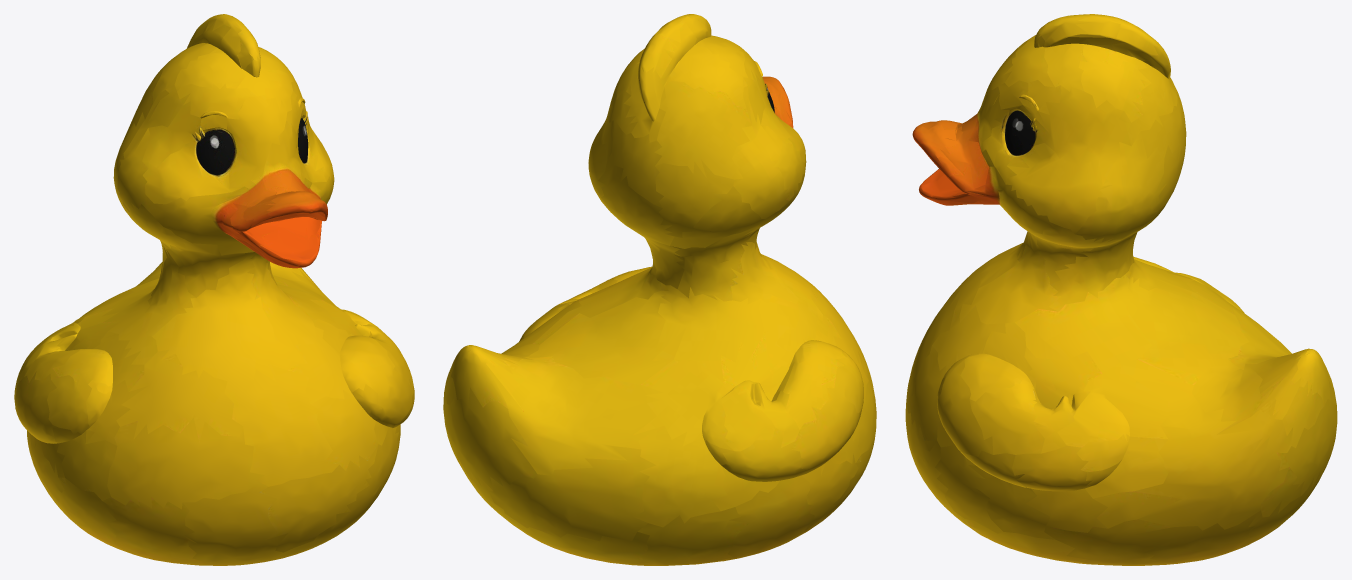
Rendered from rubber_duck.glb.
The picture shows the model from 3 angles, left to right: view 1: azimuth 30°, elevation 25°; view 2: azimuth 150°, elevation 25°; view 3: azimuth 270°, elevation 25°; orthographic projection. The views are drawn at different scales.
Size of the model in its own units: 1.4 by 1.9 by 1.48.
1 material, 1 textured.
